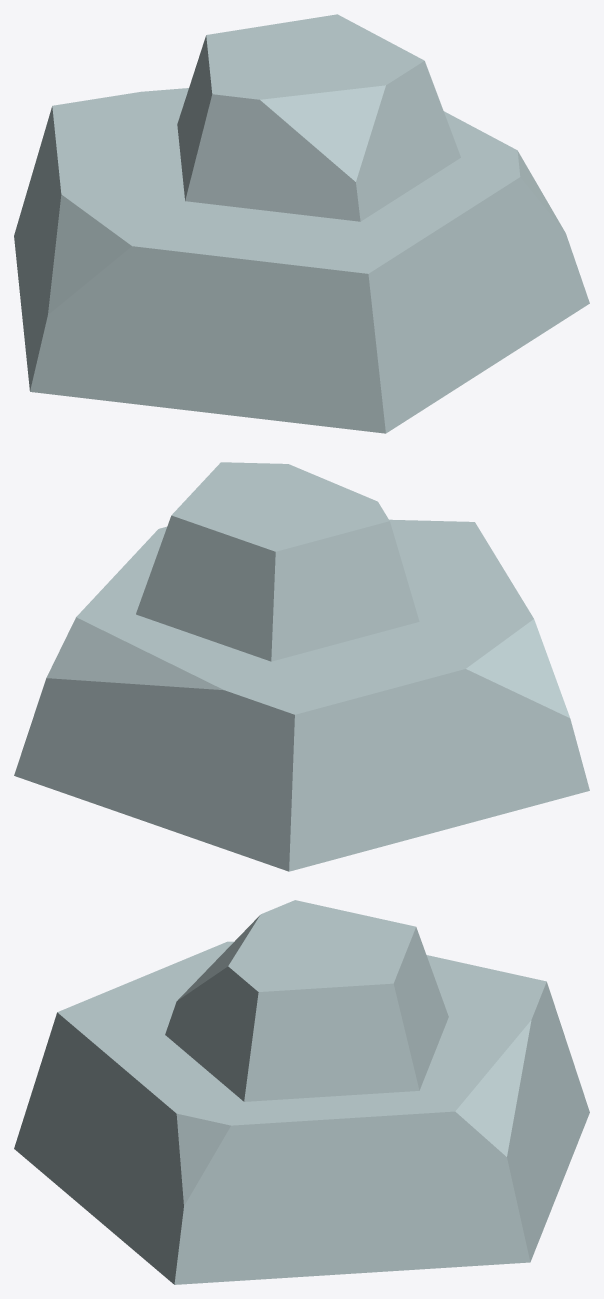
File: stone_smallTopA.glb
3 views of the same model, one above another, from view 1: azimuth 30°, elevation 25°; view 2: azimuth 150°, elevation 25°; view 3: azimuth 270°, elevation 25° (orthographic). The views are drawn at different scales.
Visible parts, largest first — view 1: stone_smallTopA; view 2: stone_smallTopA; view 3: stone_smallTopA.
Boxes of the visible parts, left/top/right/bottom form: stone_smallTopA: left=14, top=14, right=589, bottom=433; stone_smallTopA: left=14, top=462, right=589, bottom=871; stone_smallTopA: left=14, top=900, right=589, bottom=1284.
Size of the model in its own units: 0.4877 by 0.22 by 0.4891.
